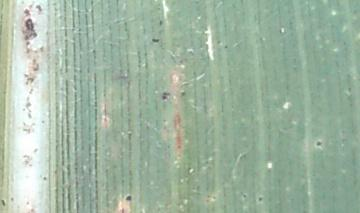tarspot: (124, 191, 134, 203), (313, 139, 323, 148), (149, 37, 160, 44), (159, 91, 172, 96), (160, 95, 168, 101), (257, 195, 263, 202), (223, 45, 230, 48), (242, 193, 246, 198)
